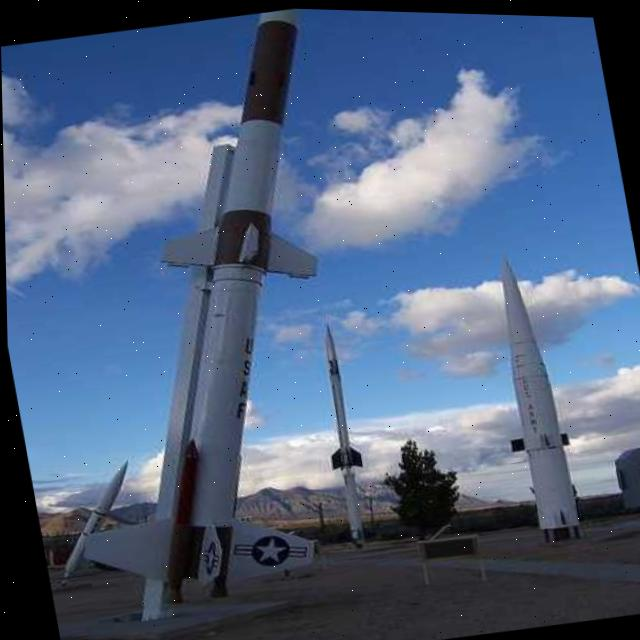missile: (0, 0, 408, 640), (473, 251, 592, 547), (309, 313, 391, 555)
